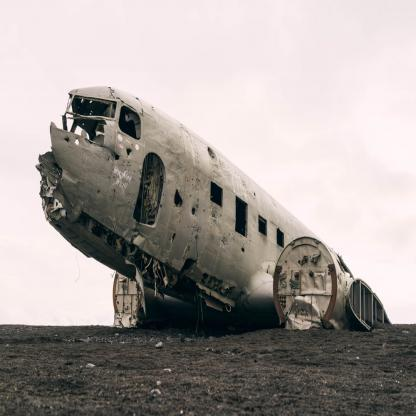CIV_Plane: (34, 72, 396, 341)
